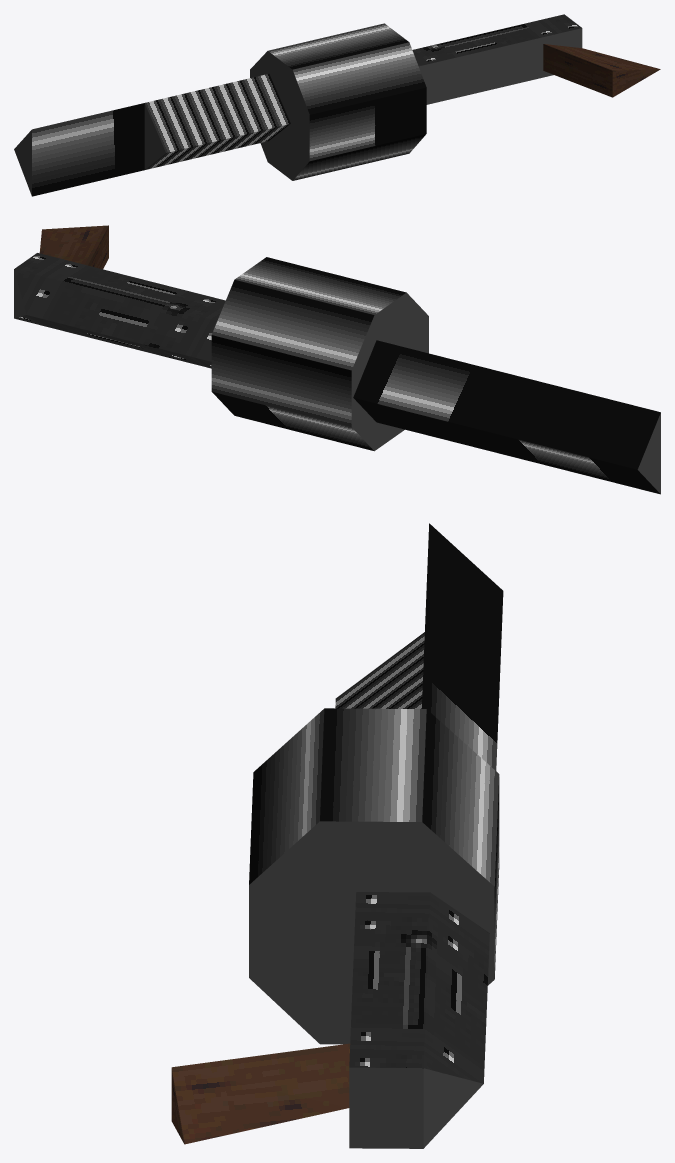
File: primary_085.glb
The picture shows the model from 3 angles, top to bottom: view 1: azimuth 30°, elevation 25°; view 2: azimuth 150°, elevation 25°; view 3: azimuth 270°, elevation 25°; orthographic projection. The views are drawn at different scales.
Parts seen in each view (by area): view 1: Object; view 2: Object; view 3: Object.
Part boxes in pixels (left/top/right/bottom): Object: left=14, top=14, right=660, bottom=196; Object: left=14, top=225, right=660, bottom=494; Object: left=171, top=523, right=503, bottom=1148.
Size of the model in its own units: 0.8988 by 0.1685 by 0.2275.
5 materials, 5 textured.
